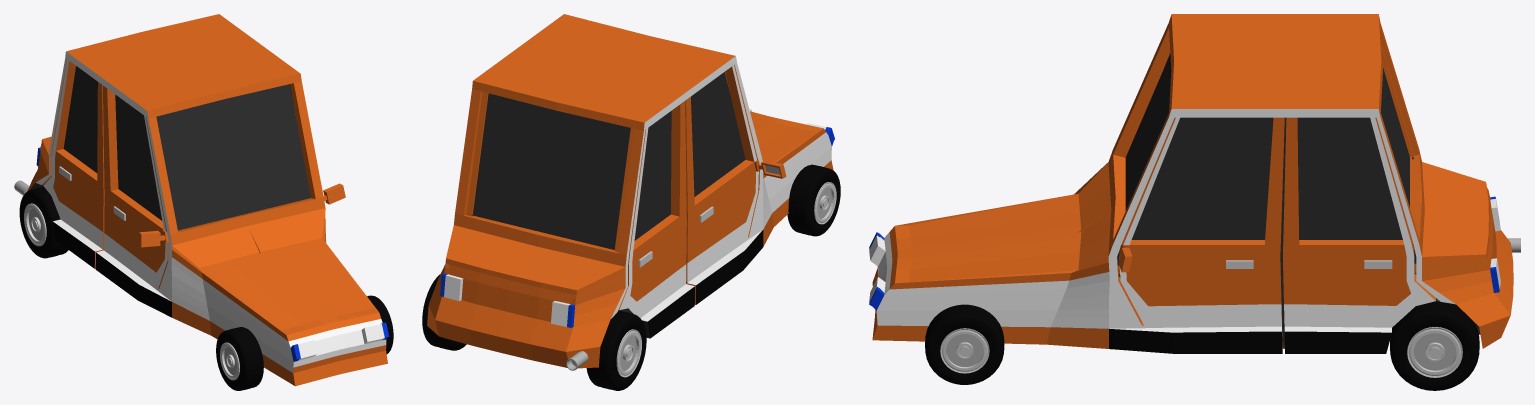
3 views of the same model, side by side, from view 1: azimuth 30°, elevation 25°; view 2: azimuth 150°, elevation 25°; view 3: azimuth 270°, elevation 25° (orthographic). The views are drawn at different scales.
Parts seen in each view (by area): view 1: BODY33, WHEEL.001, WHEEL.004, WHEEL.003; view 2: BODY33, WHEEL.004, WHEEL.001, WHEEL.002; view 3: BODY33, WHEEL.002, WHEEL.003.
Boxes of the visible parts, left/top/right/bottom form: BODY33: left=27, top=14, right=389, bottom=386; WHEEL.001: left=216, top=327, right=263, bottom=390; WHEEL.004: left=19, top=186, right=68, bottom=258; WHEEL.003: left=367, top=295, right=393, bottom=354; BODY33: left=427, top=14, right=834, bottom=368; WHEEL.004: left=586, top=310, right=646, bottom=390; WHEEL.001: left=787, top=164, right=840, bottom=236; WHEEL.002: left=422, top=274, right=466, bottom=350; BODY33: left=869, top=14, right=1513, bottom=353; WHEEL.002: left=1390, top=301, right=1479, bottom=390; WHEEL.003: left=925, top=304, right=1004, bottom=384.
Bounding box in the file's own units: 113 × 116 × 245.
